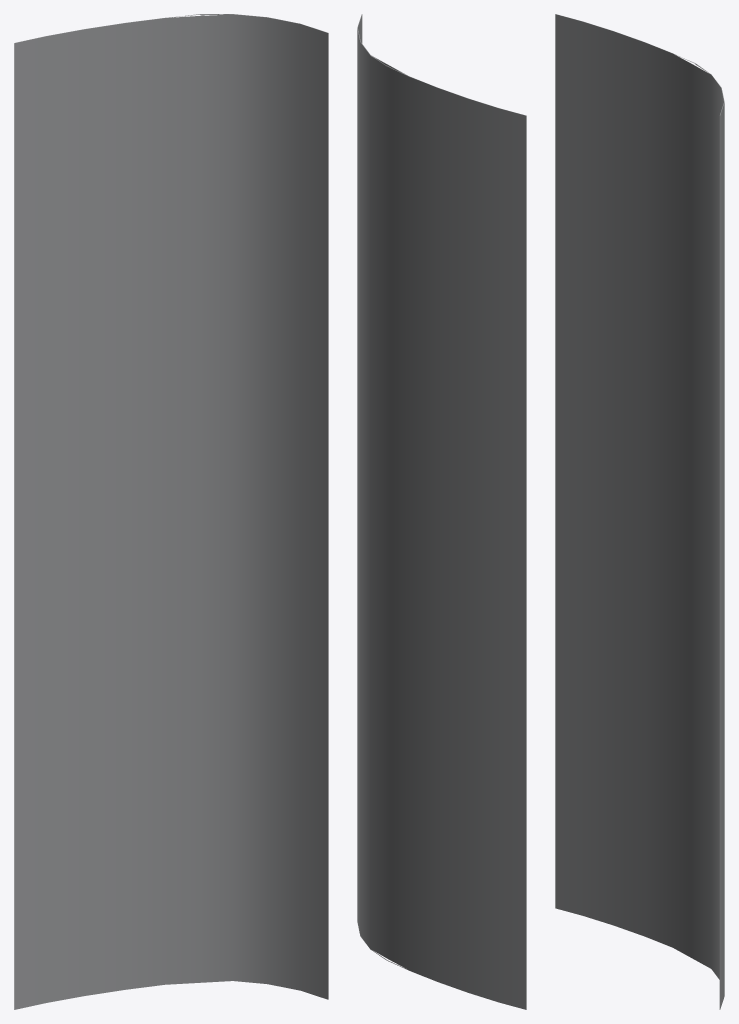
The model's file is curva 2.fbx.
3 views of the same model, side by side, from view 1: azimuth 30°, elevation 25°; view 2: azimuth 150°, elevation 25°; view 3: azimuth 330°, elevation 25° (orthographic). The views are drawn at different scales.
Visible parts, largest first — view 1: Paredes nivel 1.005; view 2: Paredes nivel 1.005; view 3: Paredes nivel 1.005.
Part boxes in pixels (box(x1,y1,x2,y2)): Paredes nivel 1.005: box(14, 14, 328, 1009); Paredes nivel 1.005: box(357, 14, 526, 1009); Paredes nivel 1.005: box(555, 14, 724, 1009).
Bounding box in the file's own units: 493 × 1852 × 237.
Materials: 1 (1 with a texture image).
